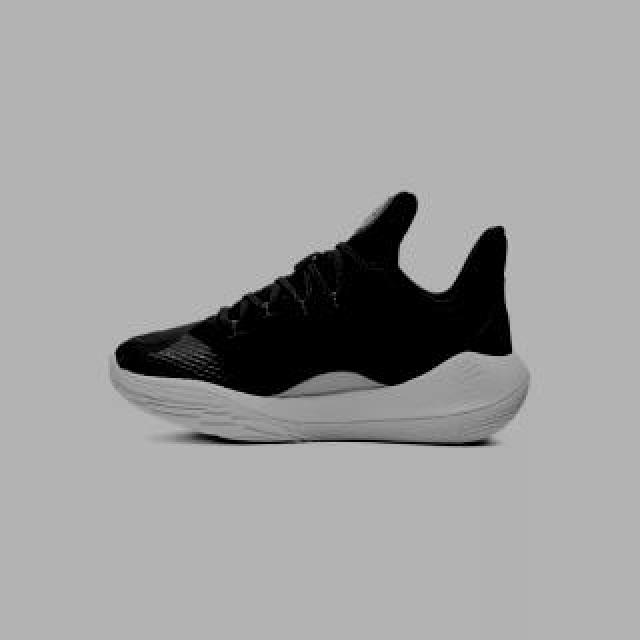shoe: (108, 190, 530, 442)
